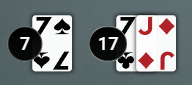7: (31, 14, 53, 38), (116, 15, 137, 39)
j: (136, 14, 157, 38)
